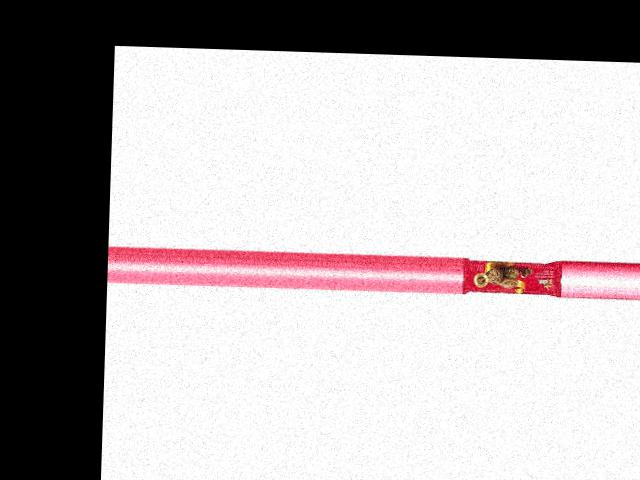chocolate: (464, 254, 563, 296)
